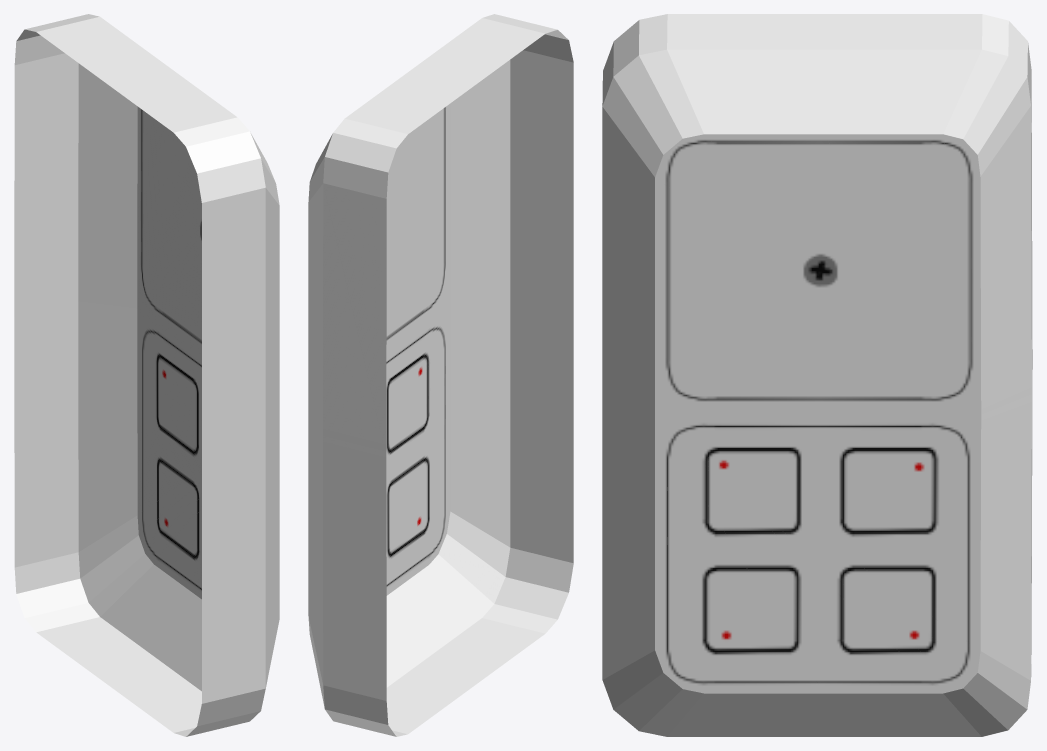
File: MiscButtons.fbx
3 views of the same model, side by side, from view 1: azimuth 30°, elevation 25°; view 2: azimuth 150°, elevation 25°; view 3: azimuth 270°, elevation 25° (orthographic). The views are drawn at different scales.
Visible parts, largest first — view 1: Misc.Buttons; view 2: Misc.Buttons; view 3: Misc.Buttons.
Boxes of the visible parts, x1,y1,x2,y2 form: Misc.Buttons: [14, 14, 279, 736]; Misc.Buttons: [308, 14, 573, 736]; Misc.Buttons: [602, 14, 1032, 736].
Size of the model in its own units: 0.7994 by 4.56 by 2.58.
